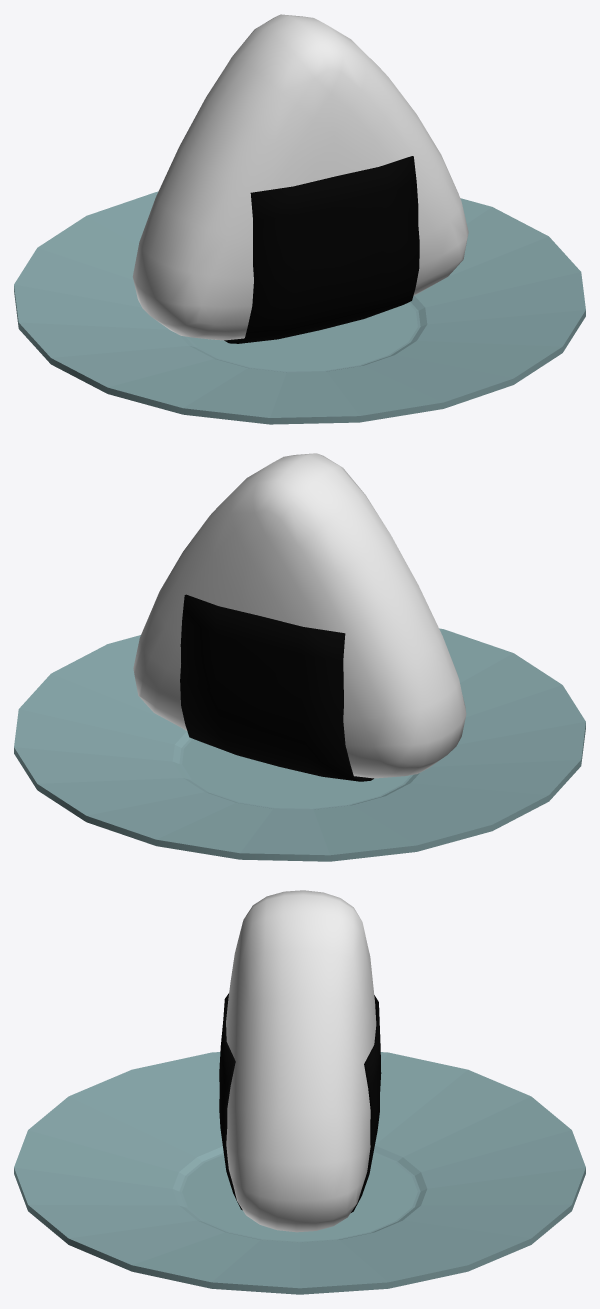
Rendered from Oniguiri.fbx.
3 renders of one model, top to bottom at view 1: azimuth 30°, elevation 25°; view 2: azimuth 150°, elevation 25°; view 3: azimuth 270°, elevation 25°, orthographic.
Visible parts, largest first — view 1: polySurface2, polySurface4, polySurface3; view 2: polySurface2, polySurface4, polySurface3; view 3: polySurface2, polySurface4, polySurface3.
Part boxes in pixels (x1,y1,x2,y2): polySurface2: (14, 191, 585, 424); polySurface4: (132, 14, 468, 340); polySurface3: (224, 156, 419, 343); polySurface2: (14, 628, 585, 861); polySurface4: (133, 453, 466, 778); polySurface3: (180, 594, 373, 781); polySurface2: (14, 1052, 585, 1294); polySurface4: (226, 890, 376, 1232); polySurface3: (219, 993, 381, 1212).
Size of the model in its own units: 18.89 by 11.8 by 18.89.
